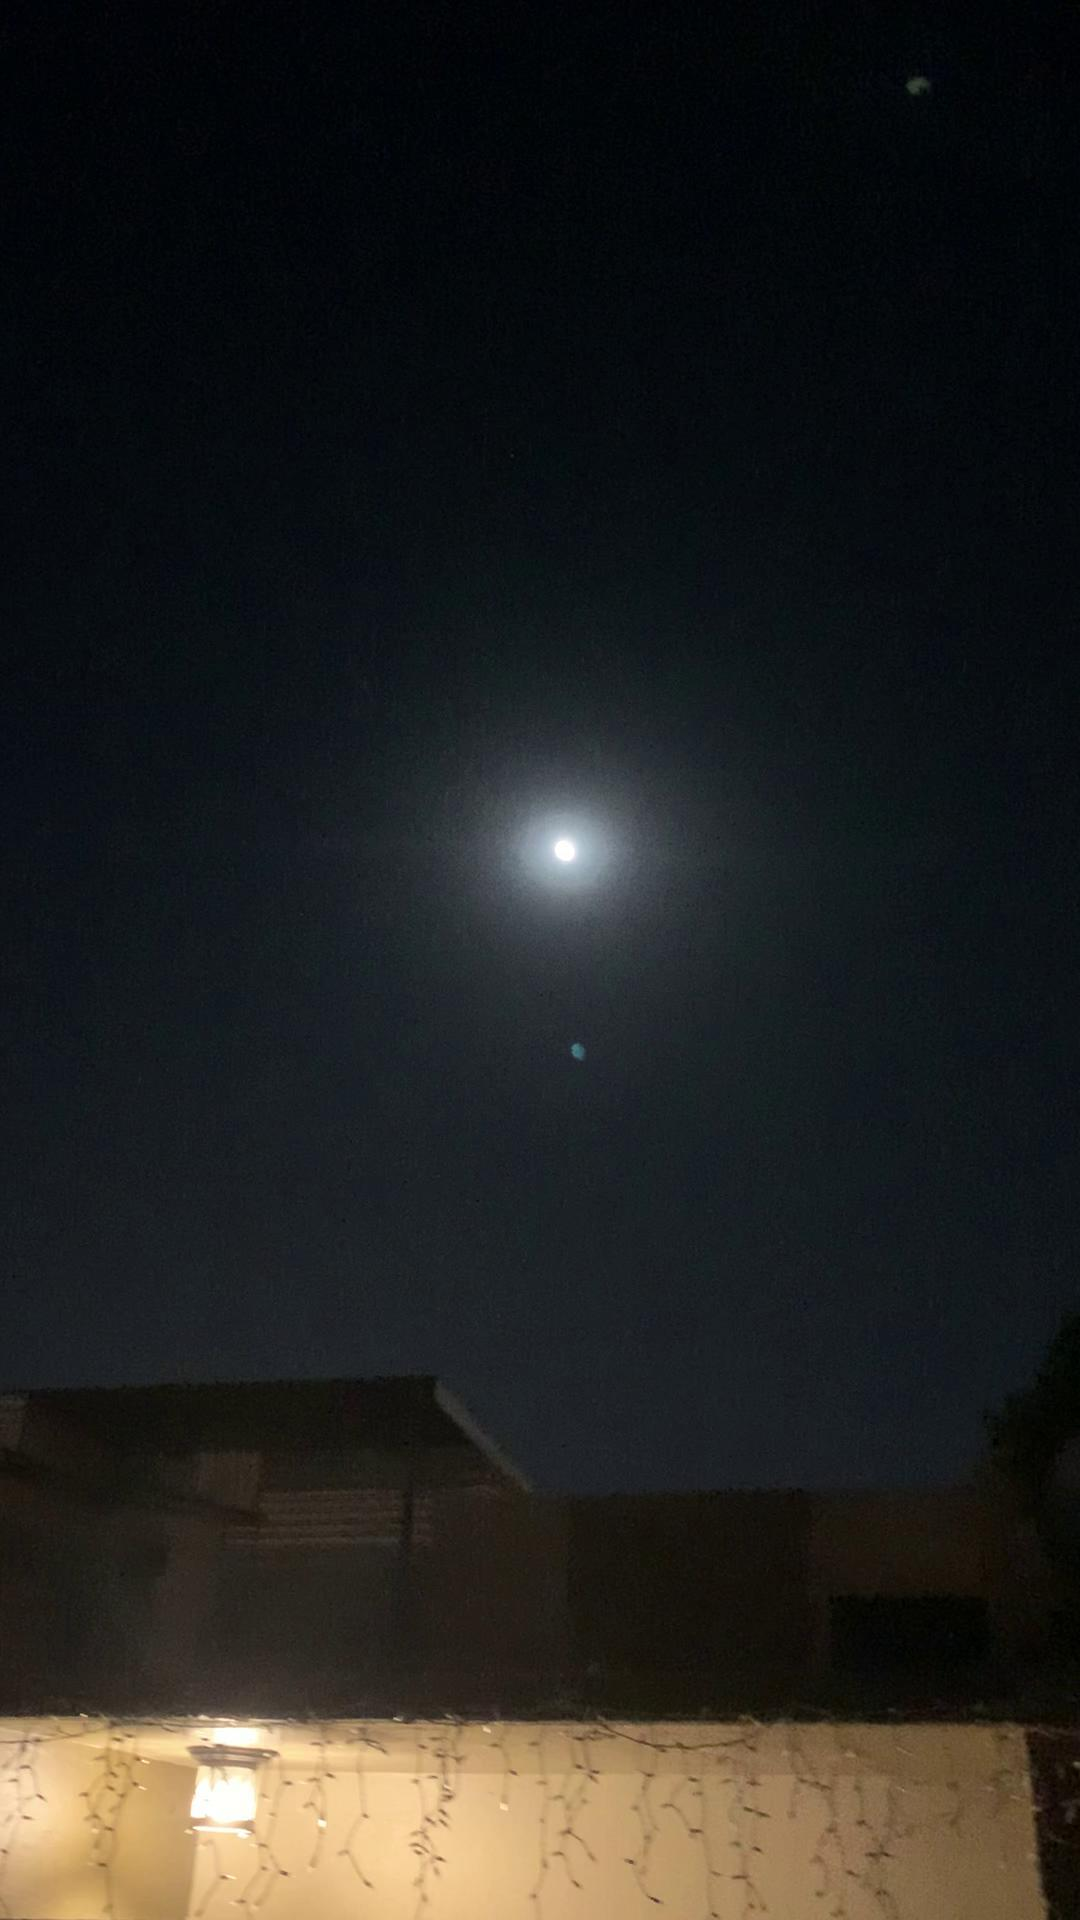moon: (524, 807, 611, 902)
